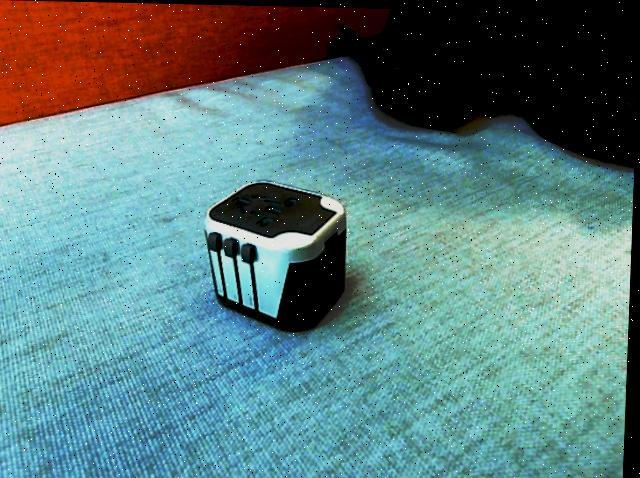adapter: (202, 178, 349, 332)
